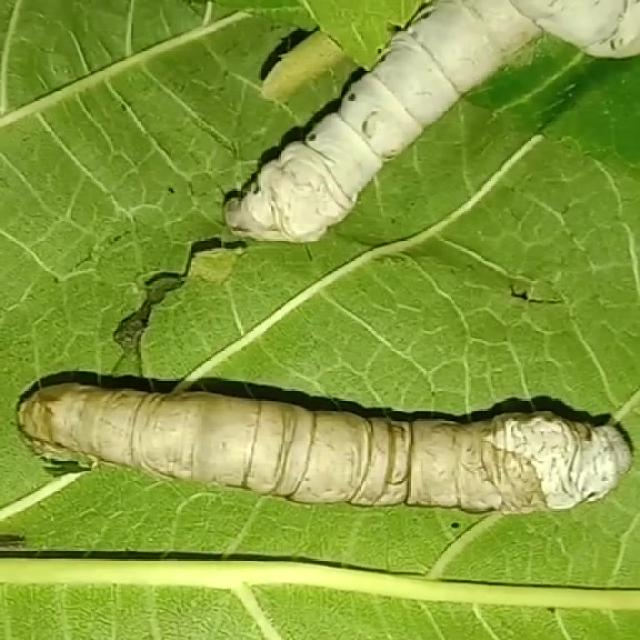Grasserie: (1, 324, 640, 598)
